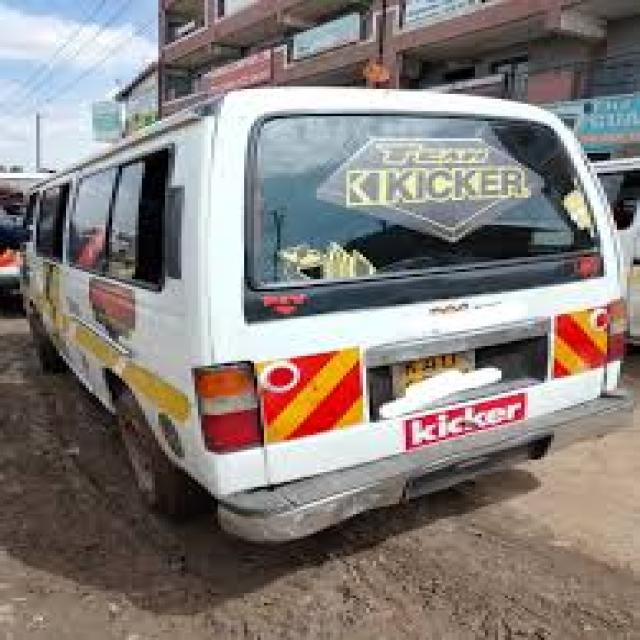matatu: (0, 51, 640, 565)
